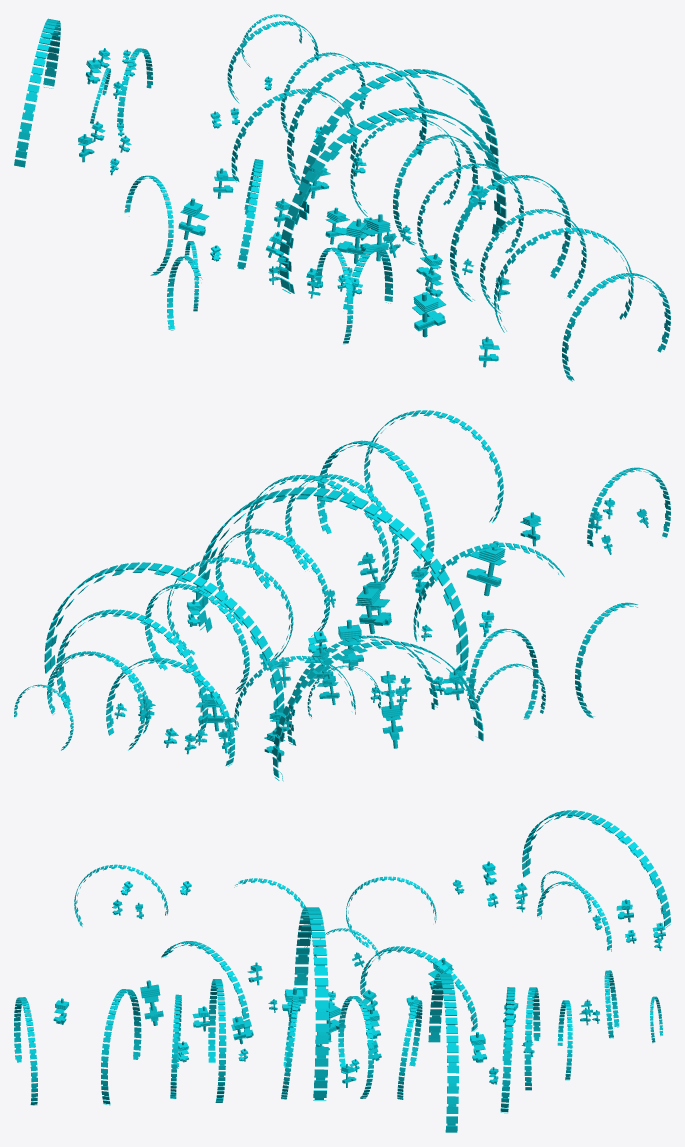
The model's file is BackgroundColor.fbx.
3 renders of one model, top to bottom at view 1: azimuth 30°, elevation 25°; view 2: azimuth 150°, elevation 25°; view 3: azimuth 270°, elevation 25°, orthographic. The views are drawn at different scales.
Parts seen in each view (by area): view 1: polySurface183; view 2: polySurface183; view 3: polySurface183.
Part boxes in pixels (<box>): polySurface183: <box>14,14,670,381</box>; polySurface183: <box>14,410,670,781</box>; polySurface183: <box>14,810,670,1132</box>.
Bounding box in the file's own units: 40.06 × 15.39 × 57.54.
